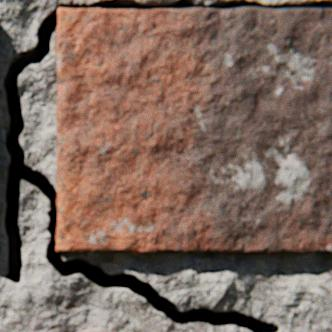brick: (55, 8, 331, 254)
crack: (2, 0, 331, 331)
